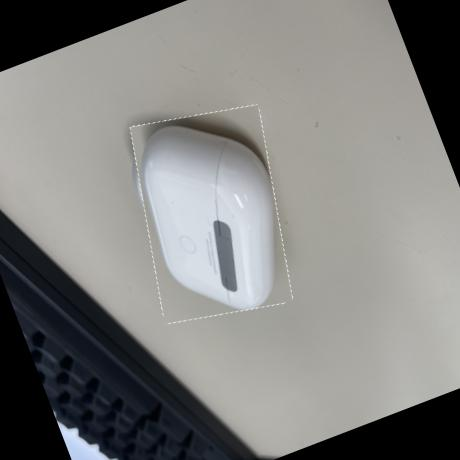airpod3: (105, 90, 318, 339)
